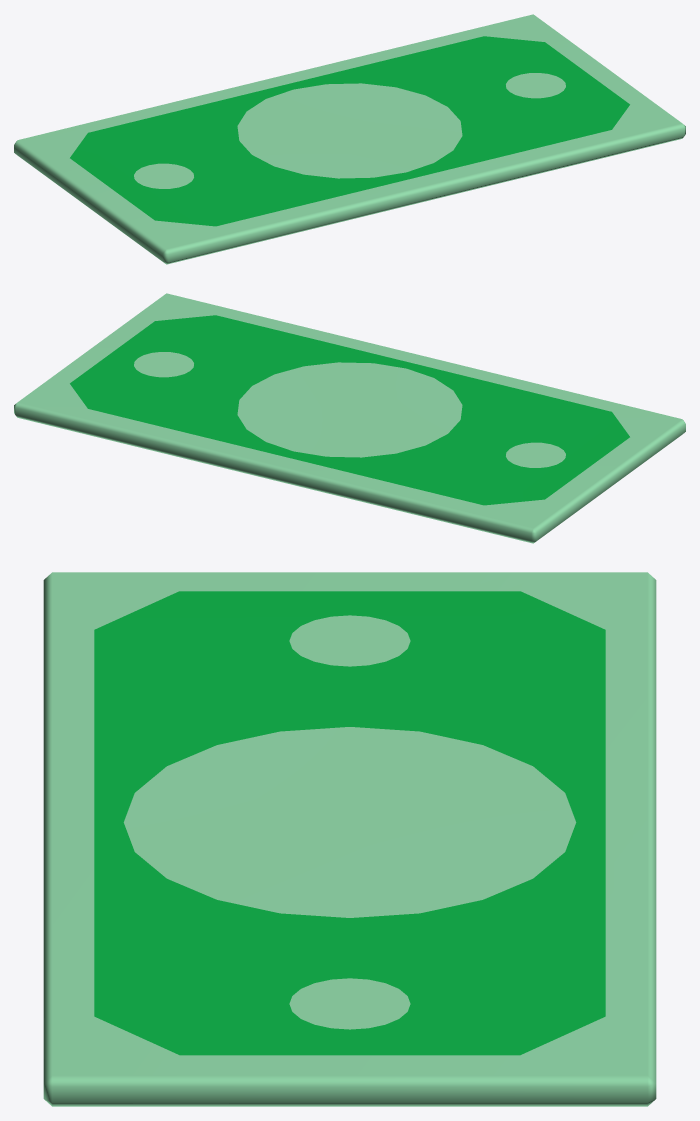
The model's file is Public_1_Money_1.glb.
3 renders of one model, top to bottom at view 1: azimuth 30°, elevation 25°; view 2: azimuth 150°, elevation 25°; view 3: azimuth 270°, elevation 25°, orthographic. The views are drawn at different scales.
Parts seen in each view (by area): view 1: Public_1_Money_1; view 2: Public_1_Money_1; view 3: Public_1_Money_1.
Part boxes in pixels (box(x1,y1,x2,y2)): Public_1_Money_1: box(14, 14, 685, 264); Public_1_Money_1: box(14, 293, 685, 543); Public_1_Money_1: box(43, 572, 656, 1106).
Size of the model in its own units: 1.57 by 0.0492 by 0.7975.
1 material, 1 textured.
